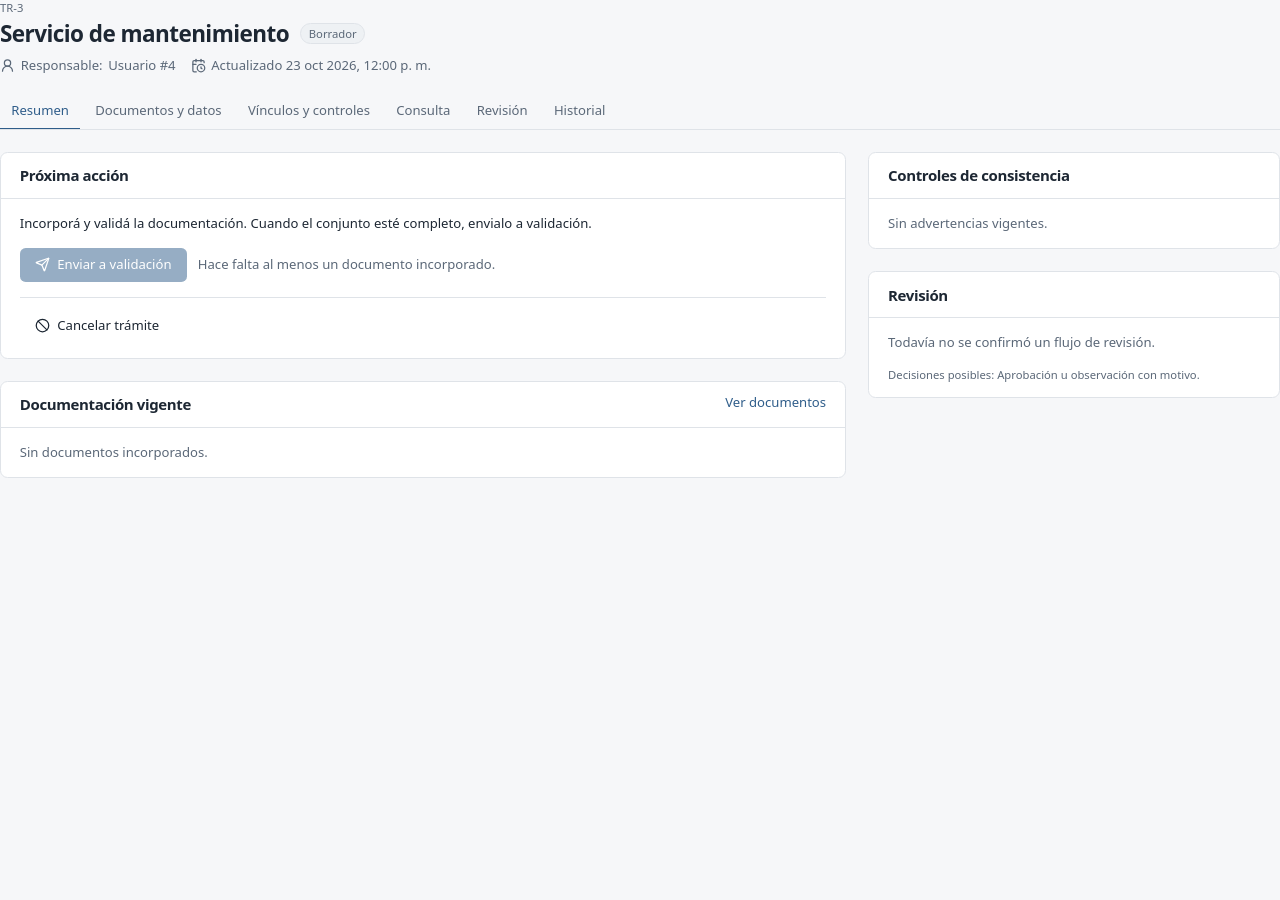
Test case: cancelación del trámite (RF-26, RN-14) › exige el motivo y lo envía
The image size is (1280, 900).
Later steps or results of the test are not shown.
Click the button "Cancelar trámite": [97, 326] box [20,309,174,343]
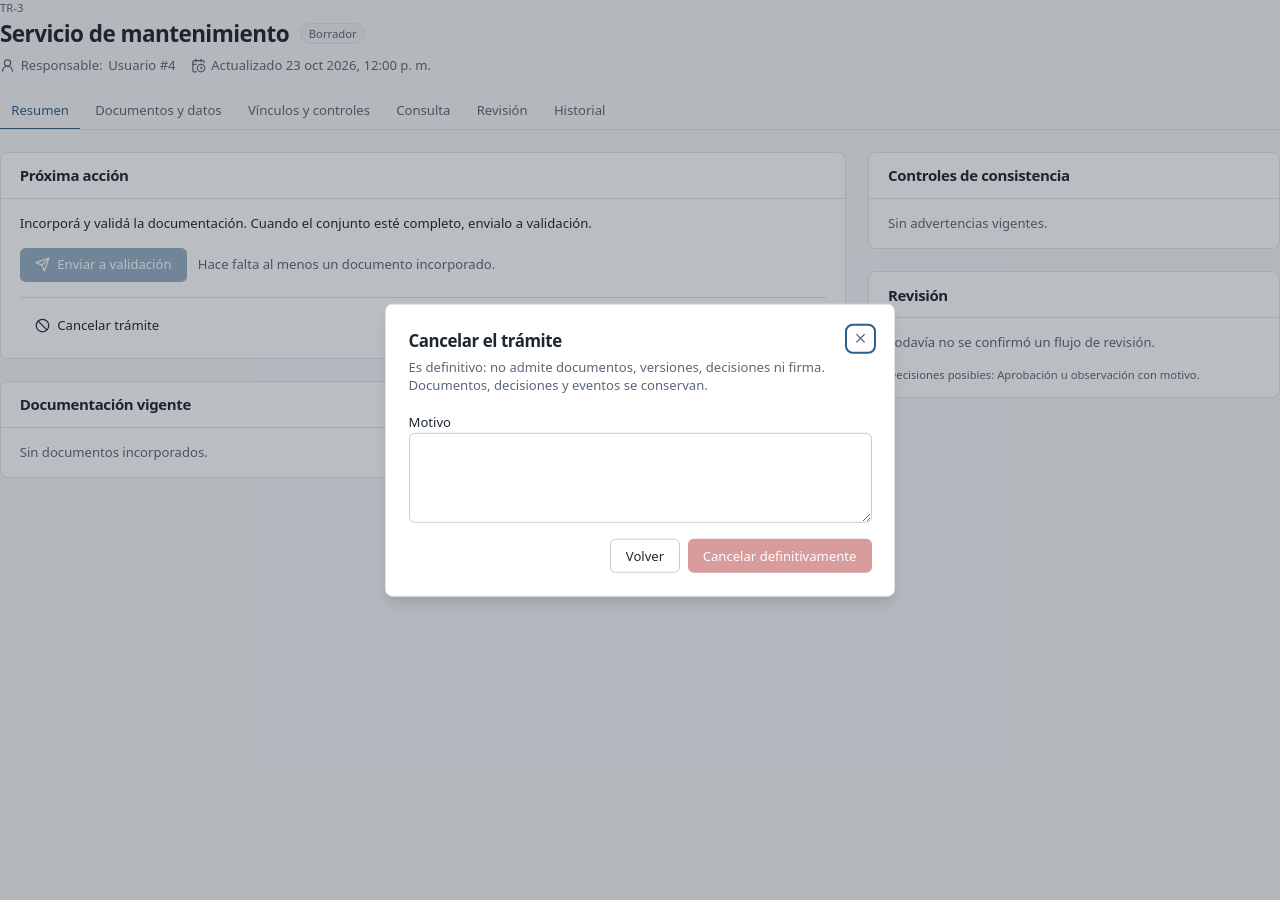
Check: the button "Cancelar definitivamente" is disabled, box [688,539,872,573]
